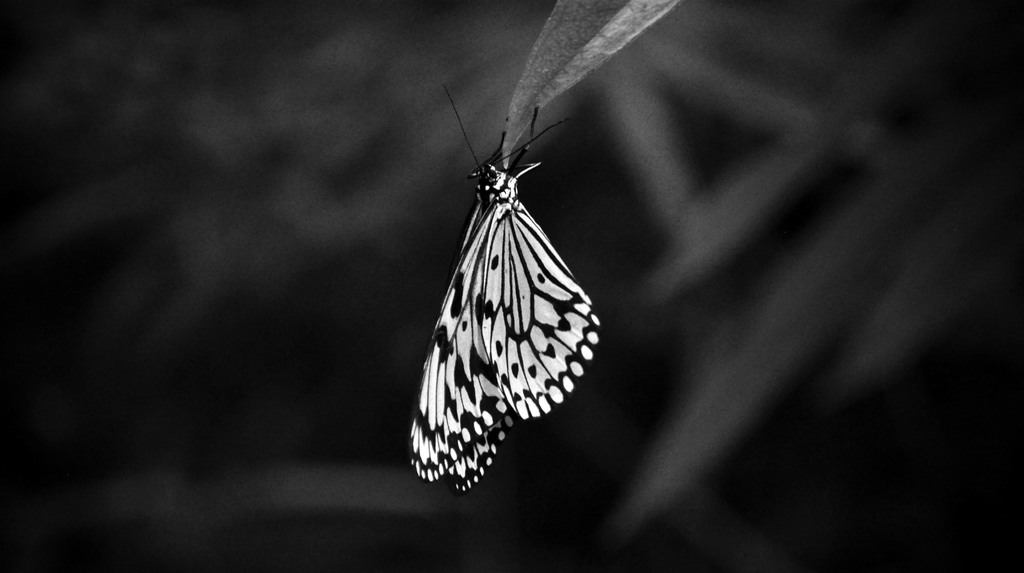Butterfly: (391, 93, 627, 502)
